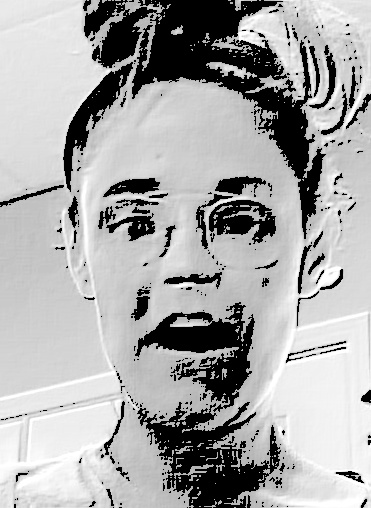nose_M_C: (154, 222, 227, 309)
